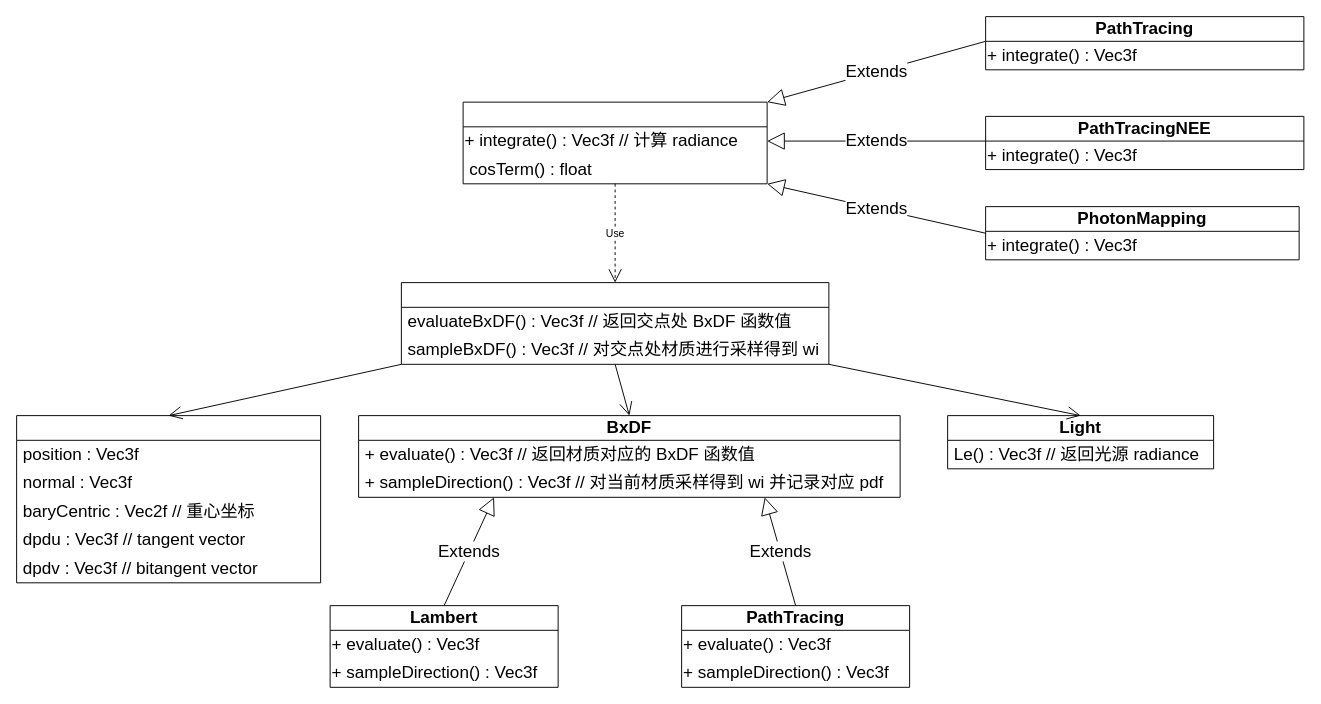
The diagram is 1321 pixels wide and 704 high, and some of its shapes have lost their labels. Here are the shapes that lost their labels. From the top down, the box of each, then its label:
(462, 101, 767, 184): Integrator
(400, 282, 829, 364): IntersectInfo
(16, 415, 321, 583): SurfaceInfo
